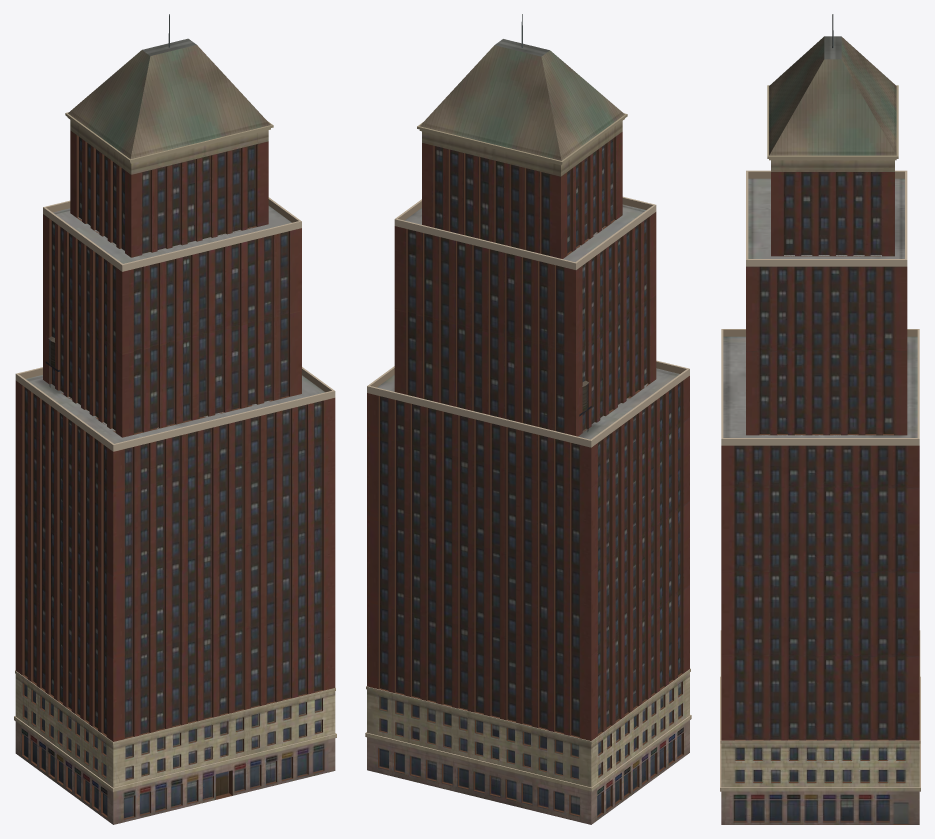
Rendered from nyc_deco_d.glb.
The picture shows the model from 3 angles, left to right: view 1: azimuth 30°, elevation 25°; view 2: azimuth 150°, elevation 25°; view 3: azimuth 270°, elevation 25°; orthographic projection.
Parts seen in each view (by area): view 1: nyc_deco_d; view 2: nyc_deco_d; view 3: nyc_deco_d.
Part boxes in pixels (box(x1,y1,x2,y2)): nyc_deco_d: box(14, 14, 336, 824); nyc_deco_d: box(365, 14, 691, 824); nyc_deco_d: box(720, 14, 920, 824).
Size of the model in its own units: 42.4 by 134 by 32.39.
Materials: 1 (1 with a texture image).
